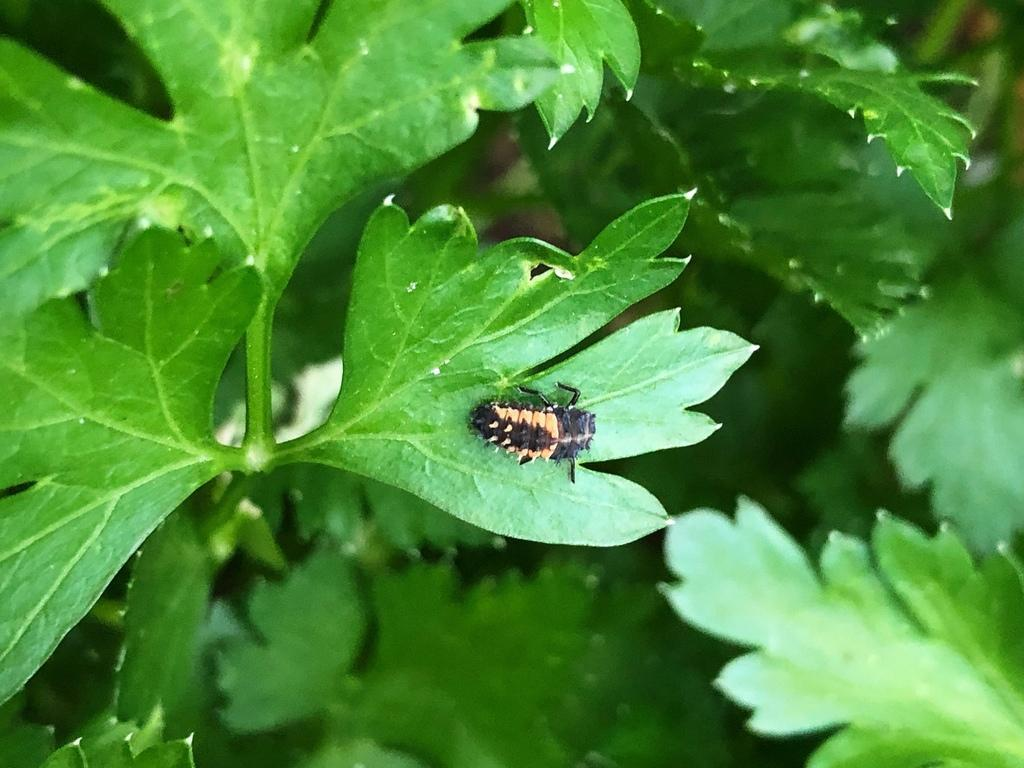ladybug: (465, 379, 603, 489)
